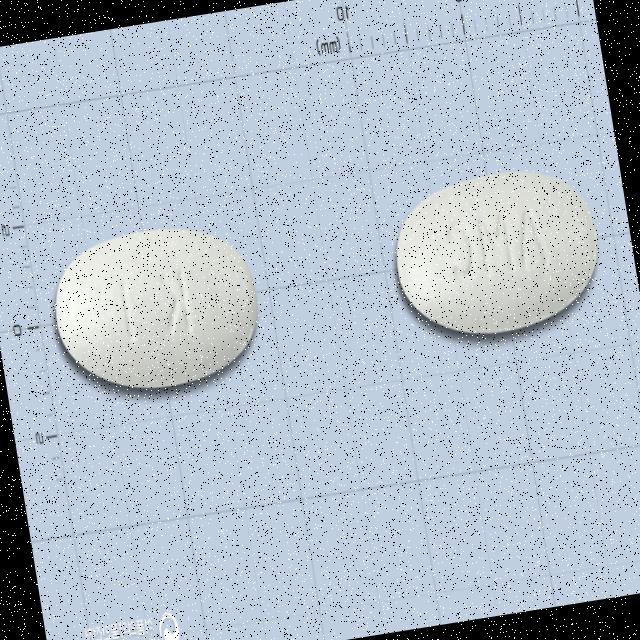Amocla 625mg: (382, 153, 612, 354), (42, 212, 272, 407)
